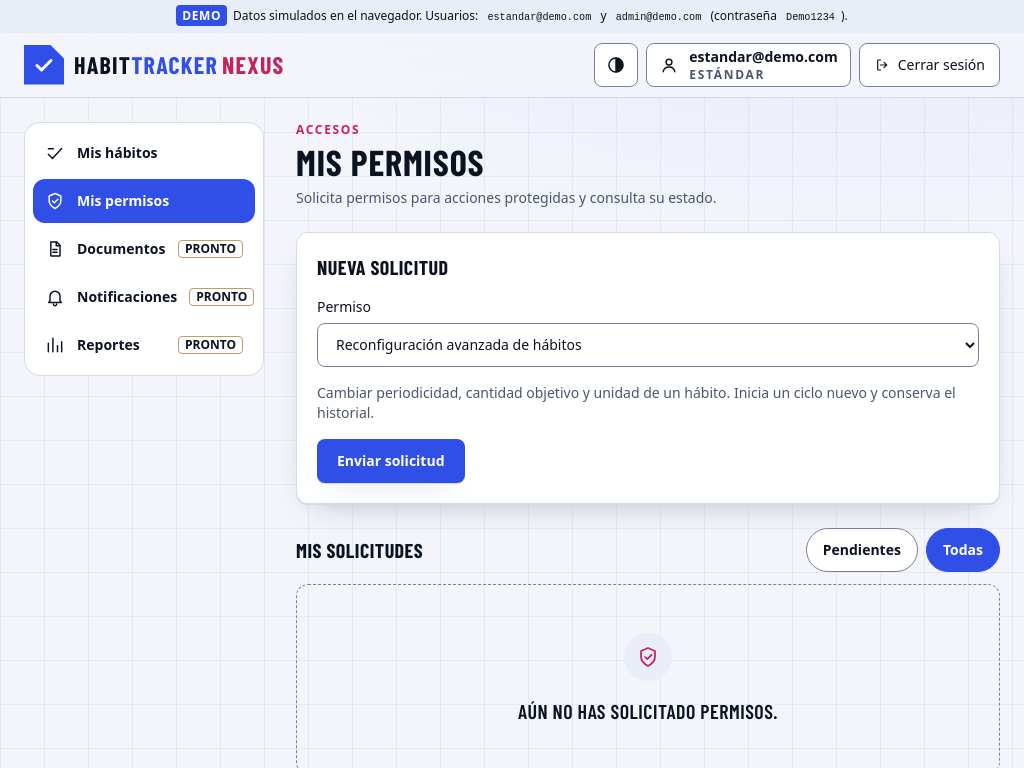
permisos › el Estándar solicita un permiso y lo ve como Pendiente
Expected: the text "Aún no has solicitado permisos." is shown, [518,699,778,723]
What coordinates should you click on to do the following:
click the button "Enviar solicitud"
I would click on:
 (391, 461)
Its box is [317,439,464,483].
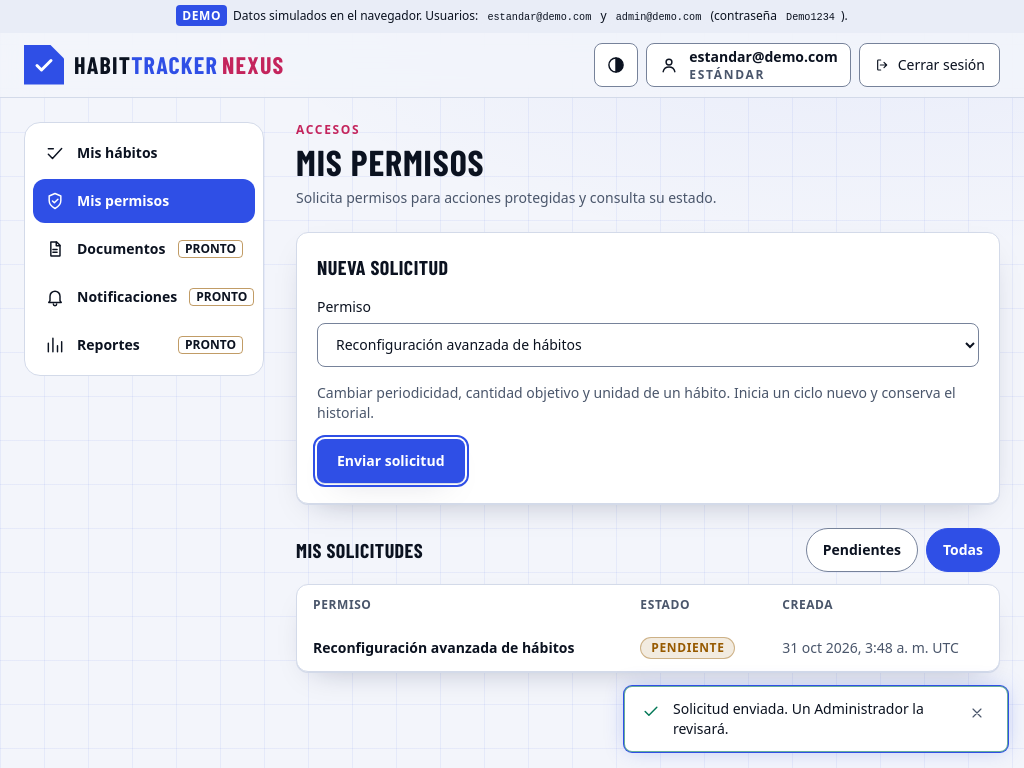
Result: the text "Pendiente" is shown at [640,637,735,659]
